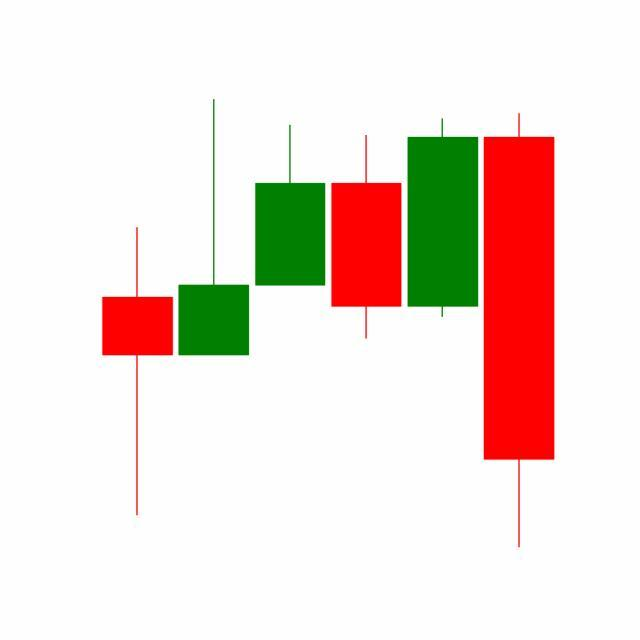Marubozu: (404, 117, 482, 320)
